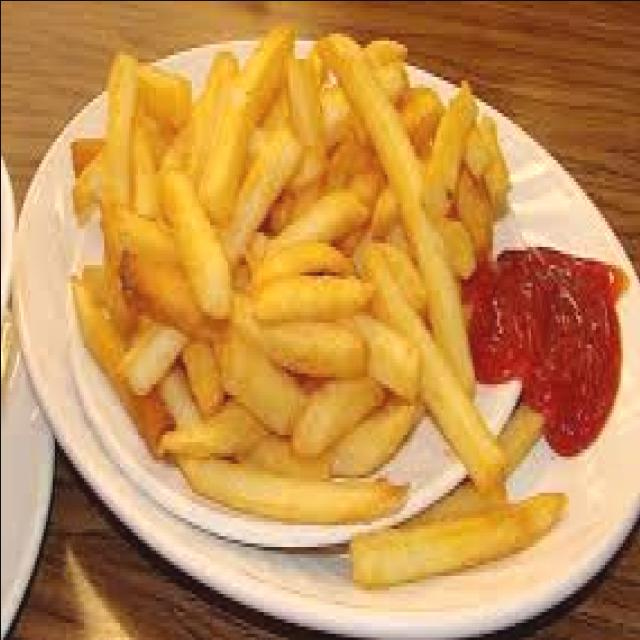kentang goreng: (348, 495, 566, 589)
